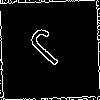J: (25, 25, 76, 75)
